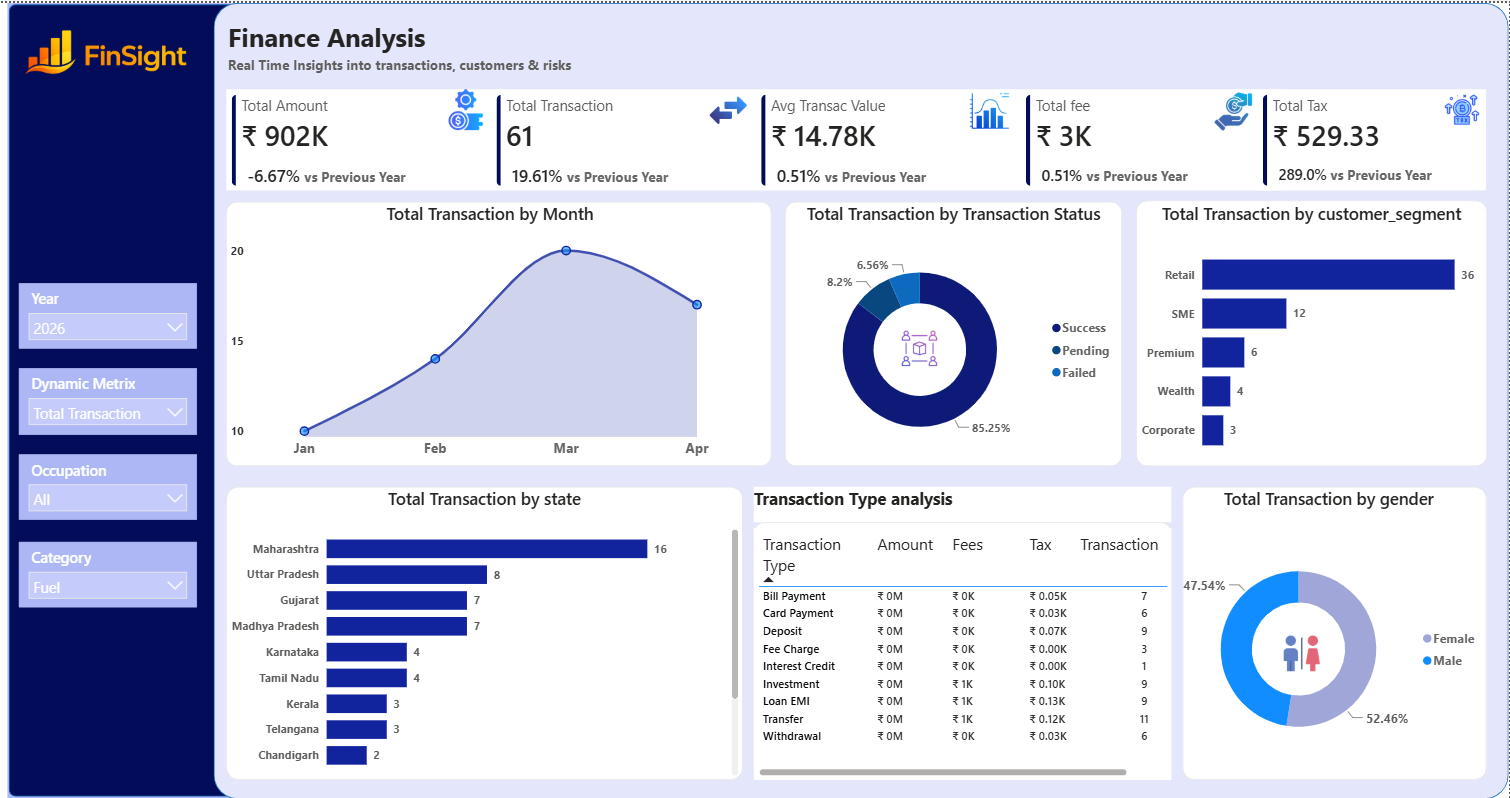

Layout of this report page (visuals, bound fields, positions):
{"tool":"powerbi","page":{"name":"Overview Analysis","canvas":[1800,950],"ordinal":0},"visuals":[{"type":"shape","box":[9.6,0,279.8,949.4],"z":0},{"type":"shape","box":[255.1,0,1545.2,950],"z":1000},{"type":"image","box":[22.9,0,212.6,117.7],"z":2000},{"type":"cardVisual","fields":{"Data":["finance_transactions.Dashboard Title"]},"box":[255.1,0,449.7,103],"z":3000},{"type":"cardVisual","fields":{"Data":["finance_transactions.Total Amount","finance_transactions.Total Transaction","finance_transactions.Avg Transac Value","finance_transactions.Total fee"]},"box":[269.8,103,1259.1,121],"z":4000},{"type":"slicer","fields":{"Values":["Calender Table.Year"]},"box":[22.9,333.6,212.6,78.5],"z":5000},{"type":"cardVisual","fields":{"Data":["finance_transactions.Total Tax"]},"box":[1501.1,103,273.1,121],"z":6000},{"type":"image","box":[526.5,103,58.9,49.1],"z":7000},{"type":"image","box":[1151.2,104.7,58.9,49.1],"z":8000},{"type":"image","box":[1715.3,103,58.9,49.1],"z":9000},{"type":"image","box":[840.5,104.7,58.9,47.4],"z":10000},{"type":"image","box":[1442.2,106.3,58.9,47.4],"z":11000},{"type":"slicer","fields":{"Values":["Dynamic Metrix.Dynamic Metrix"]},"box":[22.9,435,212.6,80.1],"z":12000},{"type":"shape","box":[269.8,237.1,650.8,315.6],"z":13000},{"type":"areaChart","fields":{"Y":["finance_transactions.Total Transaction"],"Category":["Calender Table.Month"]},"box":[269.8,237.1,629.5,315.6],"z":14000},{"type":"shape","box":[937,237.1,402.3,315.6],"z":15000},{"type":"donutChart","fields":{"Y":["finance_transactions.Total Transaction"],"Category":["finance_transactions.transaction_status"]},"box":[937,237.1,402.3,315.6],"z":16000},{"type":"shape","box":[1355.6,235.5,418.6,317.2],"z":17000},{"type":"barChart","fields":{"Y":["finance_transactions.Total Transaction"],"Category":["customers.customer_segment"]},"box":[1355.6,237.1,418.6,315.6],"z":18000},{"type":"shape","box":[269.8,577.2,616.5,349.9],"z":19000},{"type":"barChart","fields":{"Y":["finance_transactions.Total Transaction"],"Category":["customers.state"]},"box":[269.8,577.2,616.5,349.9],"z":20000},{"type":"shape","title":"Transaction Type analysis","box":[899.3,577.2,498.7,349.9],"z":21000},{"type":"tableEx","fields":{"Values":["finance_transactions.transaction_type","finance_transactions.Total Amount","finance_transactions.Total fee","finance_transactions.Total Tax","finance_transactions.Total Transaction"]},"box":[899.3,626.3,498.7,300.9],"z":22000},{"type":"shape","box":[1411.2,577.2,363,349.9],"z":23000},{"type":"donutChart","fields":{"Y":["finance_transactions.Total Transaction"],"Category":["customers.gender"]},"box":[1398.1,577.2,376.1,349.9],"z":24000},{"type":"image","box":[1067.8,389.2,58.9,45.8],"z":25000},{"type":"image","box":[1522.4,752.2,63.8,49.1],"z":26000},{"type":"slicer","fields":{"Values":["customers.occupation"]},"box":[22.9,538,212.6,78.5],"z":27000},{"type":"slicer","fields":{"Values":["finance_transactions.merchant_category"]},"box":[22.9,642.6,212.6,78.5],"z":28000}]}

Visuals, with their boxes in screenshot pixels (x1, y1, x2, y2), scaled from the page's 1800x950 canvas onto the 1510x798 screenshot:
shape: locate(8, 0, 243, 797)
shape: locate(214, 0, 1509, 797)
image: locate(19, 0, 198, 99)
cardVisual - finance_transactions.Dashboard Title: locate(214, 0, 591, 87)
cardVisual - finance_transactions.Total Amount x finance_transactions.Total Transaction: locate(226, 87, 1283, 188)
slicer - Calender Table.Year: locate(19, 280, 198, 346)
cardVisual - finance_transactions.Total Tax: locate(1259, 87, 1488, 188)
image: locate(442, 87, 491, 128)
image: locate(966, 88, 1015, 129)
image: locate(1439, 87, 1488, 128)
image: locate(705, 88, 754, 128)
image: locate(1210, 89, 1259, 129)
slicer - Dynamic Metrix.Dynamic Metrix: locate(19, 365, 198, 433)
shape: locate(226, 199, 772, 464)
areaChart - finance_transactions.Total Transaction x Calender Table.Month: locate(226, 199, 754, 464)
shape: locate(786, 199, 1124, 464)
donutChart - finance_transactions.Total Transaction x finance_transactions.transaction_status: locate(786, 199, 1124, 464)
shape: locate(1137, 198, 1488, 464)
barChart - finance_transactions.Total Transaction x customers.customer_segment: locate(1137, 199, 1488, 464)
shape: locate(226, 485, 744, 779)
barChart - finance_transactions.Total Transaction x customers.state: locate(226, 485, 744, 779)
"Transaction Type analysis" shape: locate(754, 485, 1173, 779)
tableEx - finance_transactions.transaction_type x finance_transactions.Total Amount: locate(754, 526, 1173, 779)
shape: locate(1184, 485, 1488, 779)
donutChart - finance_transactions.Total Transaction x customers.gender: locate(1173, 485, 1488, 779)
image: locate(896, 327, 945, 365)
image: locate(1277, 632, 1331, 673)
slicer - customers.occupation: locate(19, 452, 198, 518)
slicer - finance_transactions.merchant_category: locate(19, 540, 198, 606)
